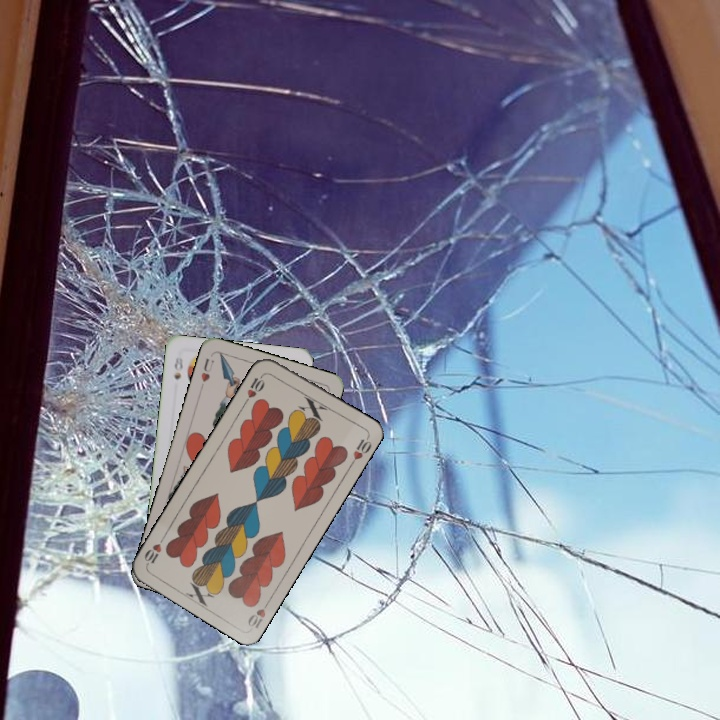H10: (244, 595, 273, 631), (240, 370, 267, 406)
HU: (197, 354, 217, 385)
S8: (170, 353, 186, 382)
